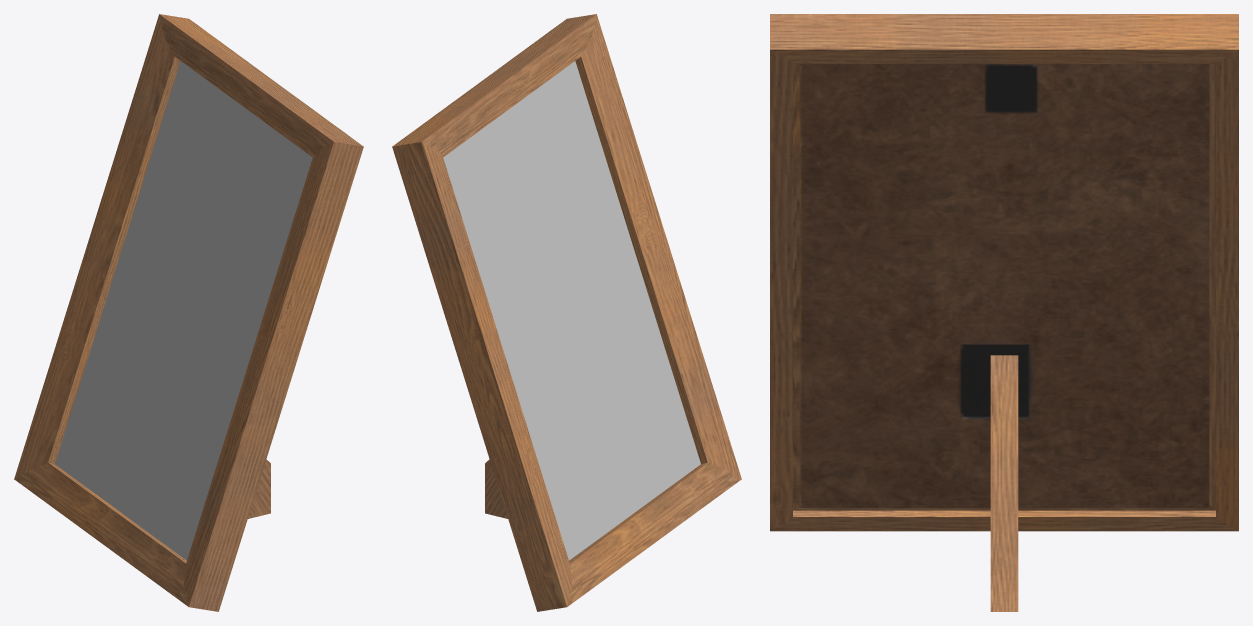
The model's file is SM_Desk_Mirror.fbx.
3 renders of one model, left to right at view 1: azimuth 30°, elevation 25°; view 2: azimuth 150°, elevation 25°; view 3: azimuth 270°, elevation 25°, orthographic. The views are drawn at different scales.
Parts seen in each view (by area): view 1: SM_Desk_Mirror_LOD0; view 2: SM_Desk_Mirror_LOD0; view 3: SM_Desk_Mirror_LOD0.
Part boxes in pixels (x1,y1,x2,y2): SM_Desk_Mirror_LOD0: (14,14,363,611); SM_Desk_Mirror_LOD0: (392,14,741,611); SM_Desk_Mirror_LOD0: (770,14,1238,611).
Size of the model in its own units: 11.97 by 20.7 by 28.88.
